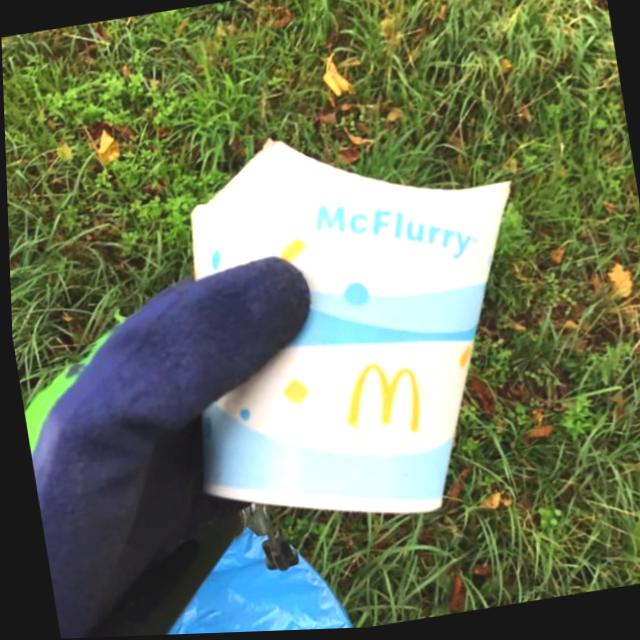Paper: (138, 98, 562, 555)
